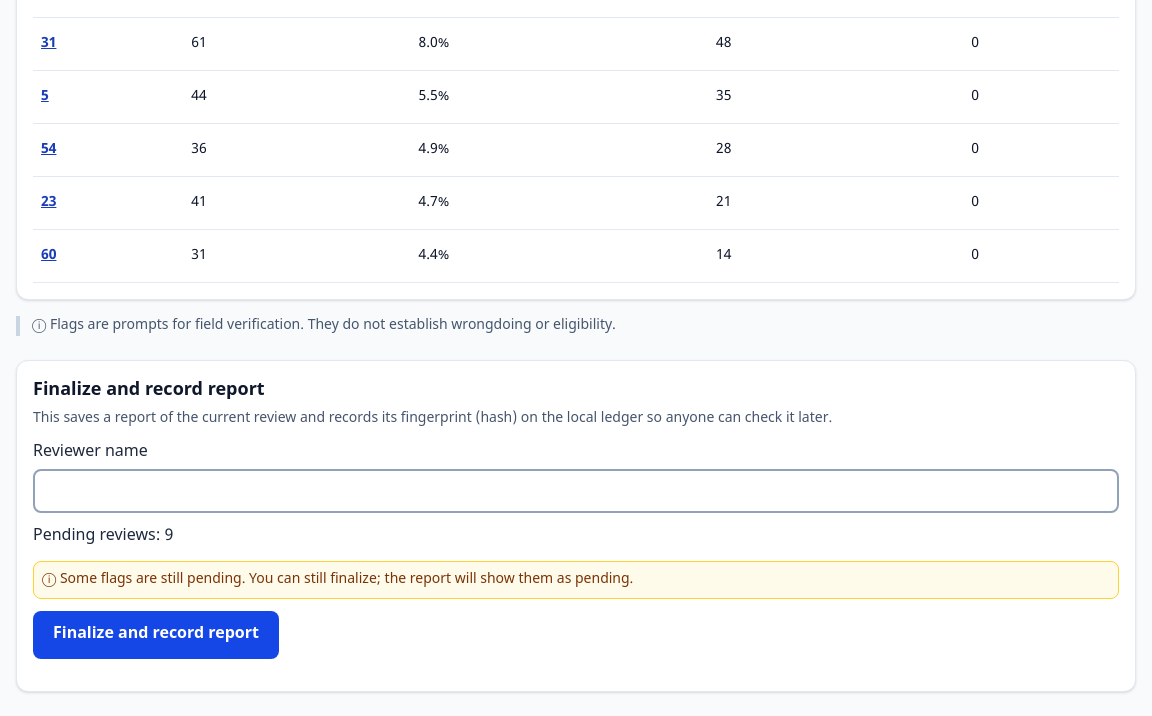
Test: FinalizePanel › explains a 502 from the trust service clearly
The width and height of the screenshot is (1152, 716).
(page scrolled)
Type "R. Sharma" into the field labelled "Reviewer name" at (576, 491), box [33,469,1119,513]
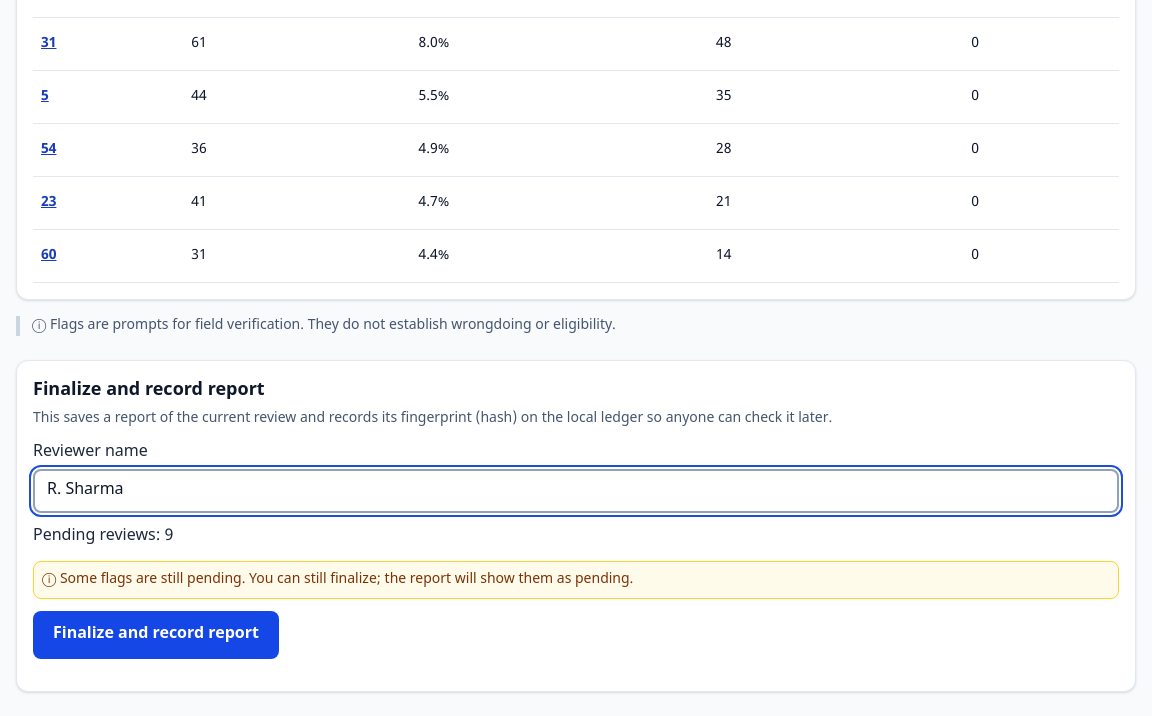
Click the button "Finalize and record report" at (156, 635), box [33,611,279,659]
(page scrolled)
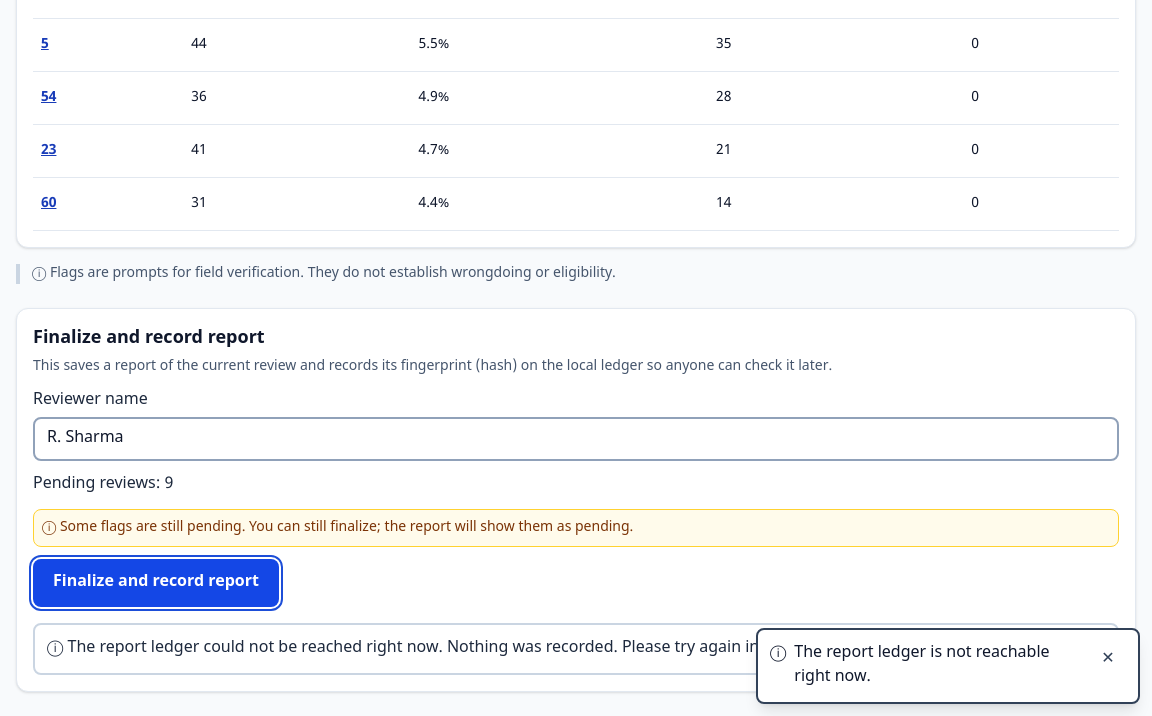
expect the message shows "Nothing was recorded": met, box [68,638,845,659]
